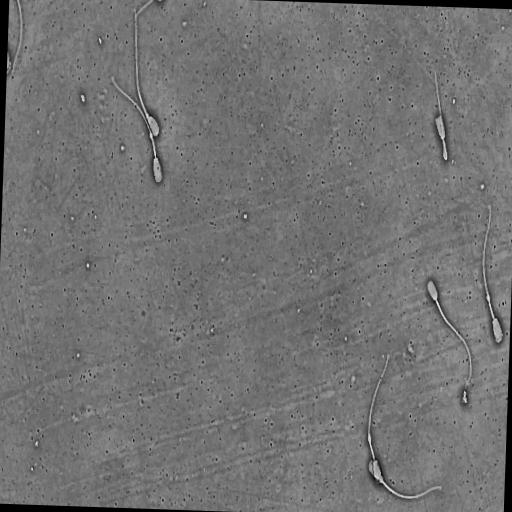dirt-particles: (460, 388, 468, 405)
distal-droplet: (486, 293, 490, 300), (368, 433, 371, 441), (149, 132, 152, 139)
folded-tail: (434, 71, 447, 160), (443, 142, 446, 158)
loose-tail: (8, 0, 24, 80)
normal: (110, 74, 164, 184), (426, 278, 472, 390), (367, 459, 443, 501), (481, 201, 503, 344), (134, 12, 159, 136), (367, 351, 389, 479), (433, 70, 447, 162)
proximal-droplet: (378, 476, 383, 483), (146, 113, 149, 118)
